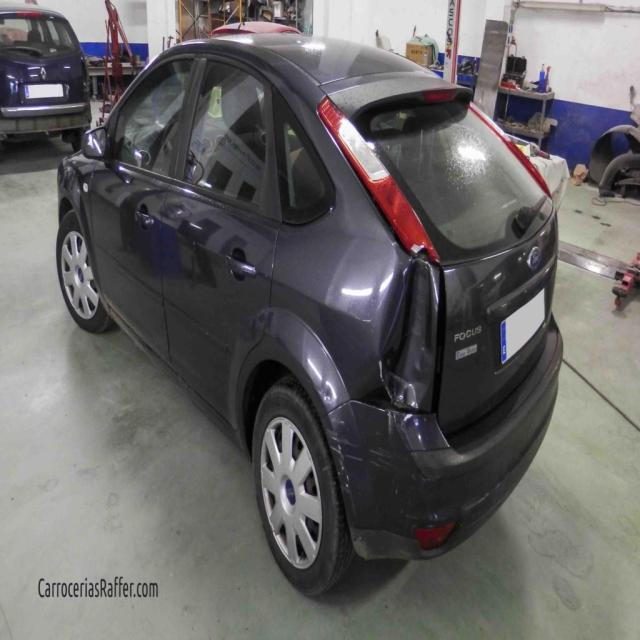Damage: (317, 229, 478, 447)
